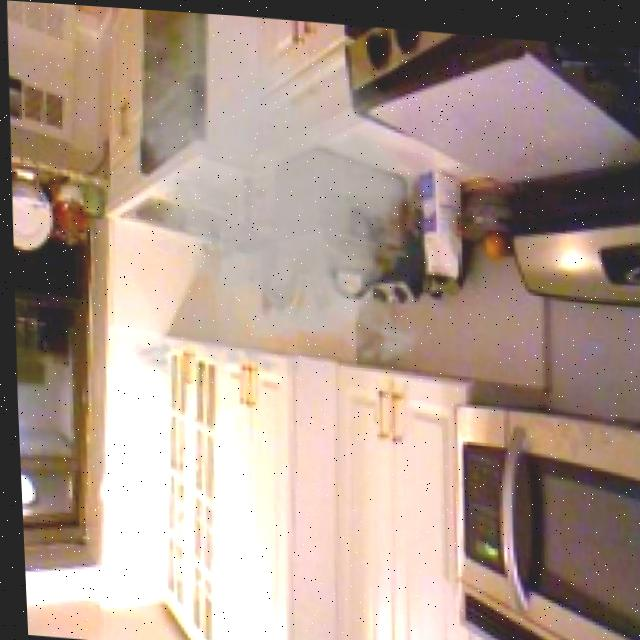Smoke: (64, 3, 473, 409)
